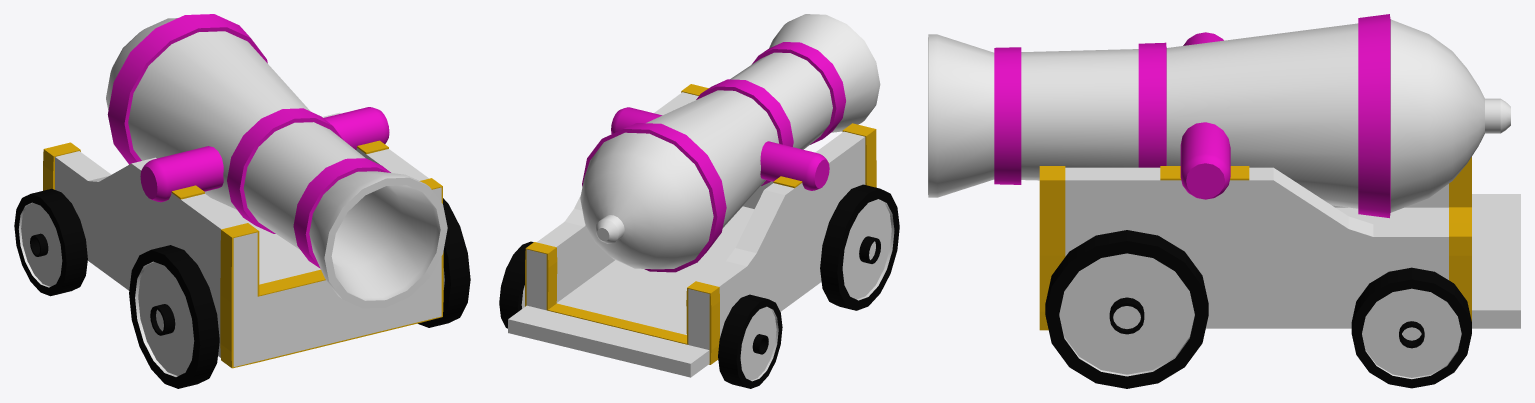
File: Cannon.fbx
3 views of the same model, side by side, from view 1: azimuth 30°, elevation 25°; view 2: azimuth 150°, elevation 25°; view 3: azimuth 270°, elevation 25° (orthographic). The views are drawn at different scales.
Visible parts, largest first — view 1: Cylinder.041; view 2: Cylinder.041; view 3: Cylinder.041.
Part boxes in pixels (box(x1,y1,x2,y2)): Cylinder.041: box(14, 14, 470, 388); Cylinder.041: box(499, 14, 899, 388); Cylinder.041: box(928, 14, 1520, 388).
Bounding box in the file's own units: 132 × 112 × 208.
